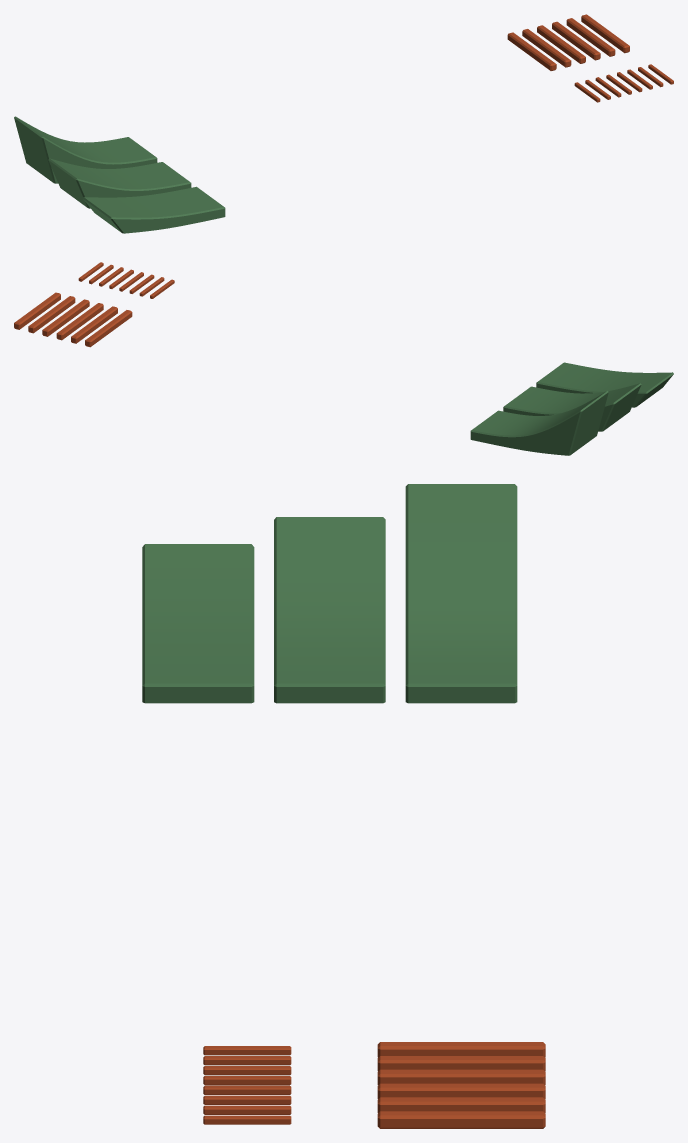
File: Logs.glb
The picture shows the model from 3 angles, top to bottom: view 1: azimuth 30°, elevation 25°; view 2: azimuth 150°, elevation 25°; view 3: azimuth 270°, elevation 25°; orthographic projection. The views are drawn at different scales.
Parts seen in each view (by area): view 1: Plane, Plane.003, Plane.001, Cube.005, Cube.007; view 2: Plane.003, Cube.005, Plane, Plane.001, Cube.007; view 3: Plane.003, Plane.001, Plane, Cube.005, Cube.007.
Part boxes in pixels (bbox=[...]): Plane: bbox=[83, 186, 225, 233]; Plane.003: bbox=[14, 116, 157, 183]; Plane.001: bbox=[48, 158, 191, 208]; Cube.005: bbox=[507, 14, 629, 70]; Cube.007: bbox=[574, 64, 673, 102]; Plane.003: bbox=[470, 391, 608, 455]; Cube.005: bbox=[14, 292, 132, 347]; Plane: bbox=[536, 362, 673, 407]; Plane.001: bbox=[503, 383, 641, 431]; Cube.007: bbox=[78, 262, 174, 298]; Plane.003: bbox=[405, 484, 517, 703]; Plane.001: bbox=[274, 517, 385, 703]; Plane: bbox=[142, 544, 254, 703]; Cube.005: bbox=[377, 1042, 545, 1128]; Cube.007: bbox=[203, 1046, 291, 1124].
Size of the model in its own units: 101 by 9.61 by 31.44.
